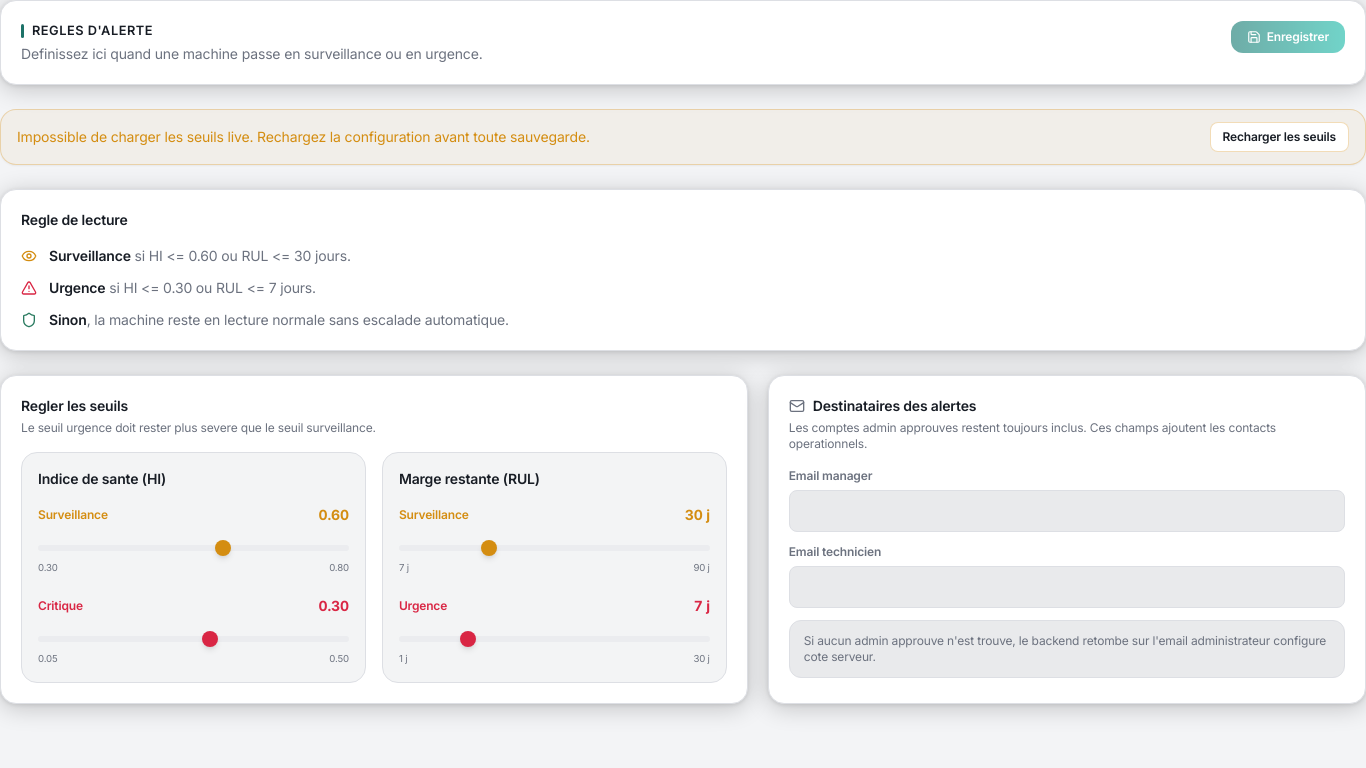
Test: SeuilsPage › keeps saving disabled until the live thresholds load successfully
The width and height of the screenshot is (1366, 768).
Check: the text "Impossible de charger les seuils live" is shown, box [17, 128, 590, 145]
Check: the button "Enregistrer" is disabled, box [1231, 21, 1345, 53]
Click the button "Recharger les seuils" at (1279, 137), box [1210, 122, 1349, 152]
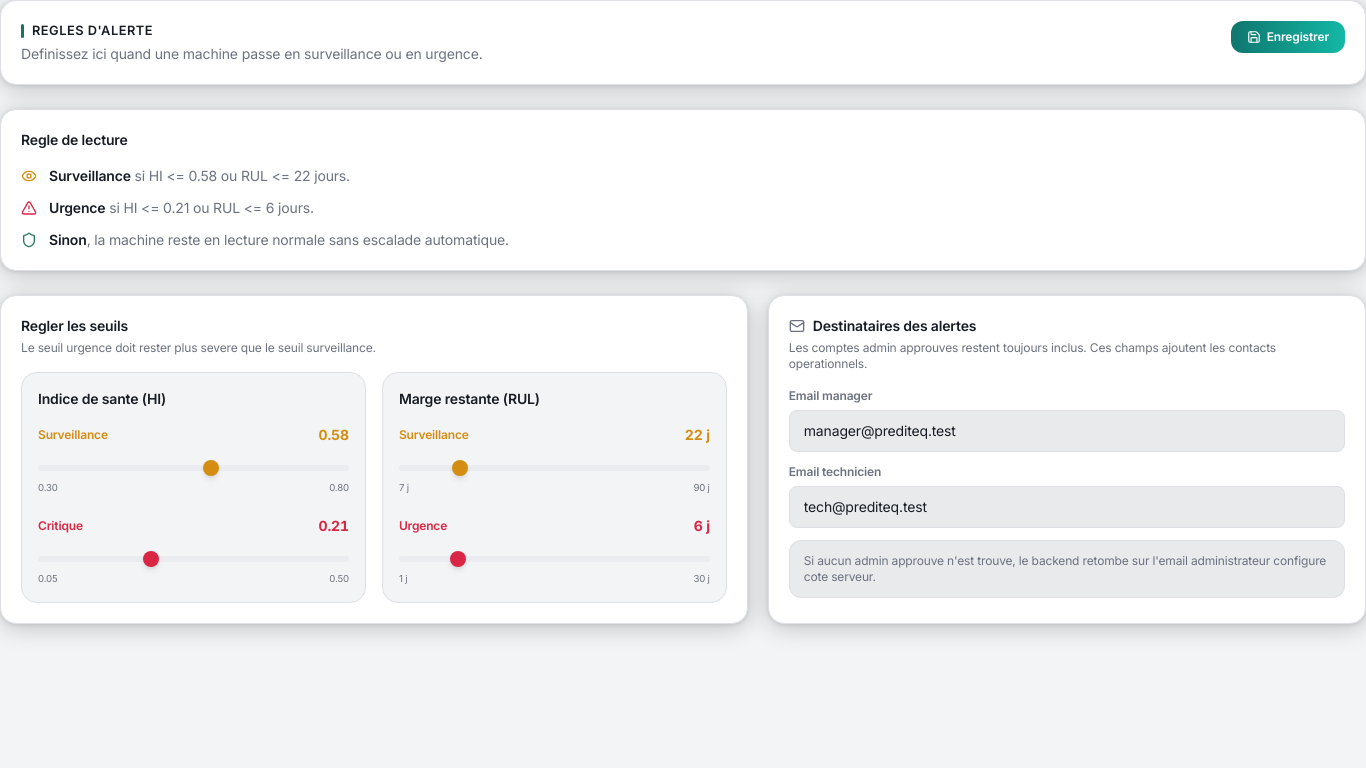
Check: the button "Enregistrer" is enabled, box [1231, 21, 1345, 53]
